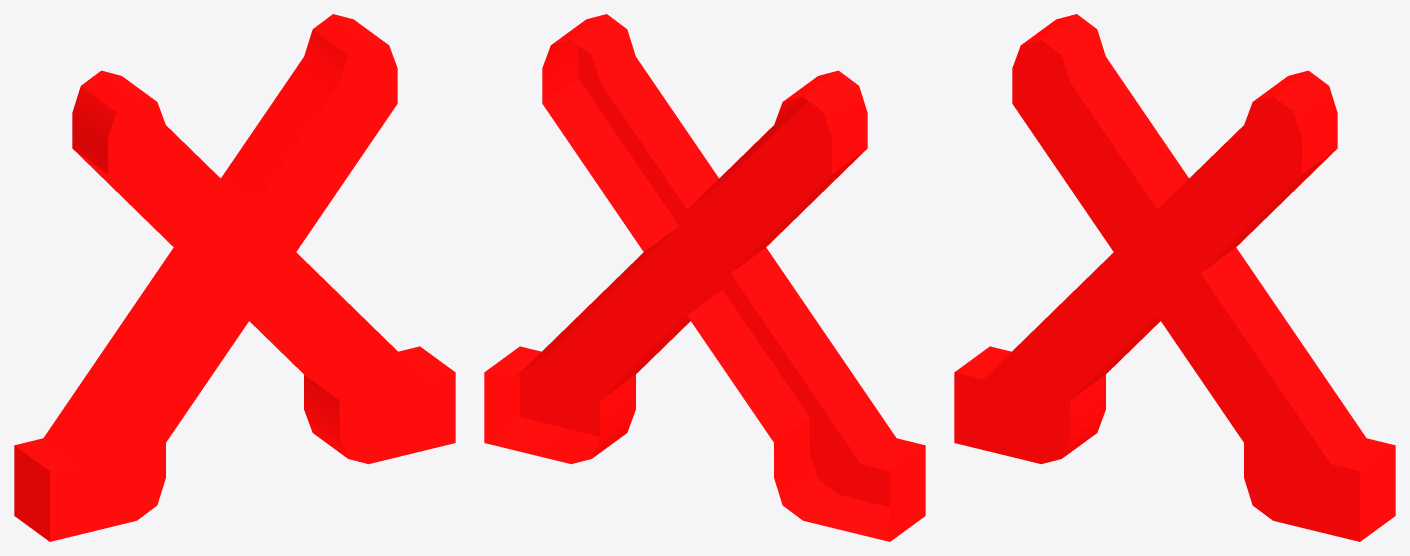
File: X_Red.glb
The picture shows the model from 3 angles, left to right: view 1: azimuth 30°, elevation 25°; view 2: azimuth 150°, elevation 25°; view 3: azimuth 330°, elevation 25°; orthographic projection.
Visible parts, largest first — view 1: X_R; view 2: X_R; view 3: X_R.
Part boxes in pixels (left/top/right/bottom): X_R: left=14, top=14, right=455, bottom=541; X_R: left=484, top=14, right=925, bottom=541; X_R: left=954, top=14, right=1395, bottom=541.
Size of the model in its own units: 0.5002 by 0.4998 by 0.0759.
1 material, 1 textured.
